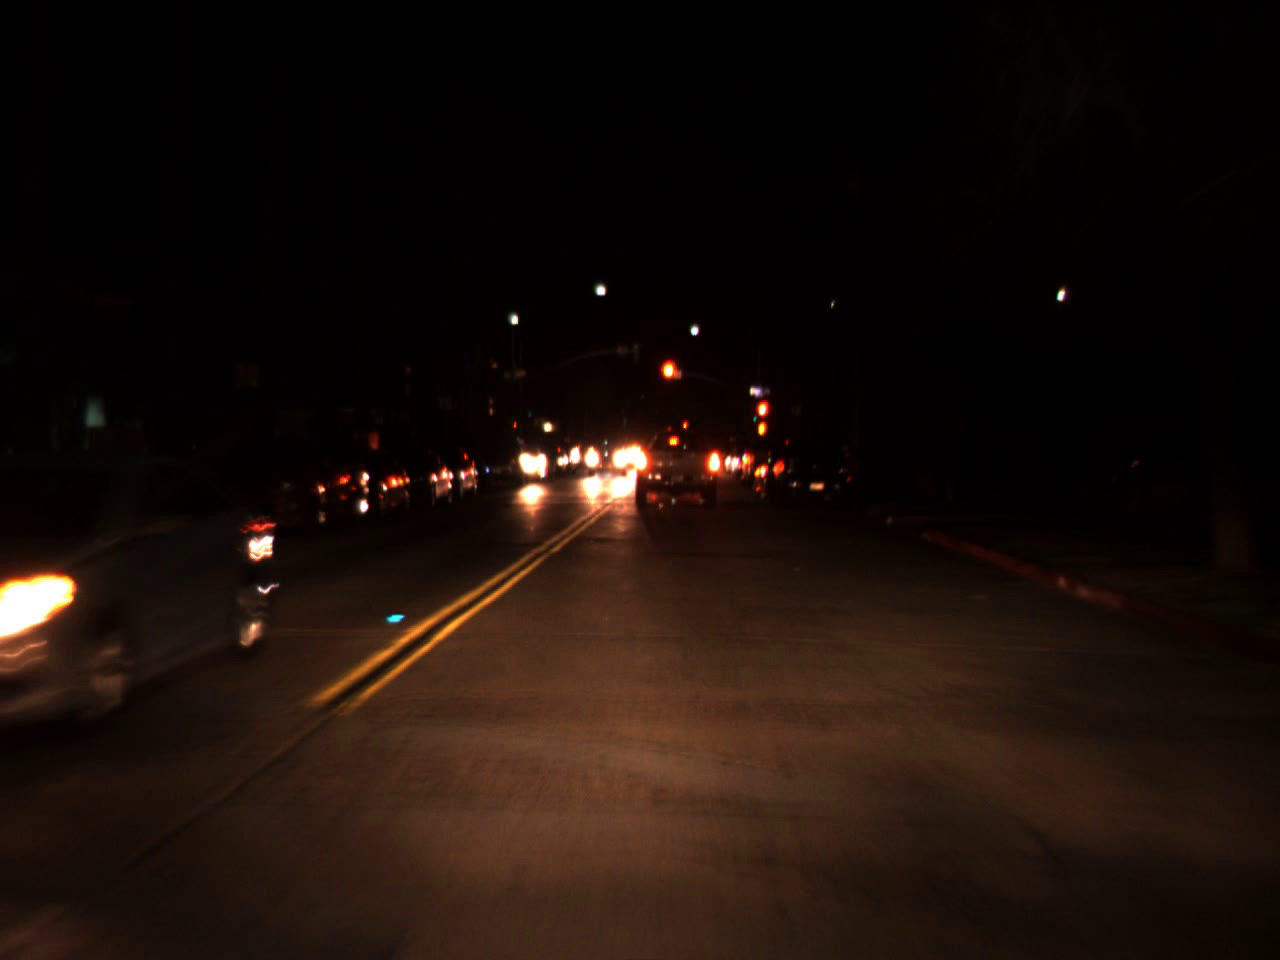stop: (658, 356, 682, 401), (755, 398, 770, 435)
